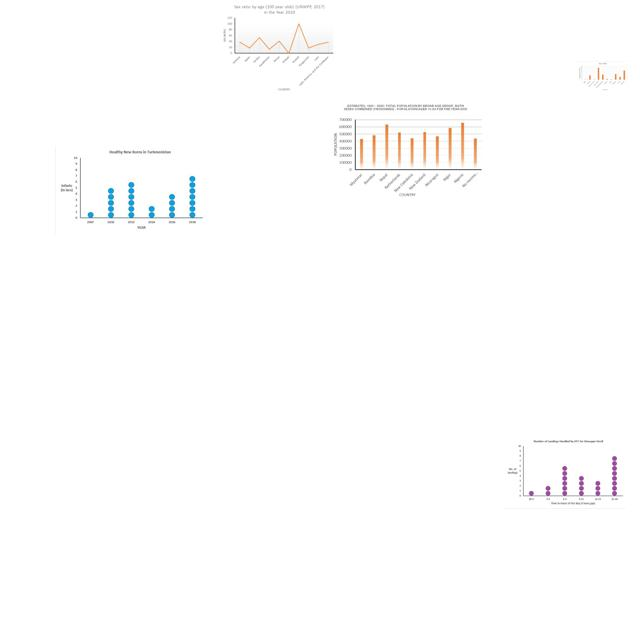Graph: (327, 102, 485, 197), (55, 146, 206, 234), (221, 2, 335, 91), (504, 437, 626, 509), (577, 61, 628, 92)
